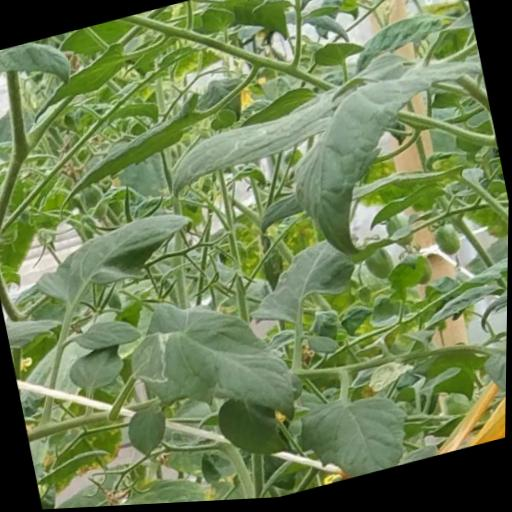Healthy: (275, 49, 511, 269), (28, 203, 206, 313), (295, 380, 417, 492)
Leaf_Miner: (118, 273, 304, 460), (158, 89, 351, 202)
